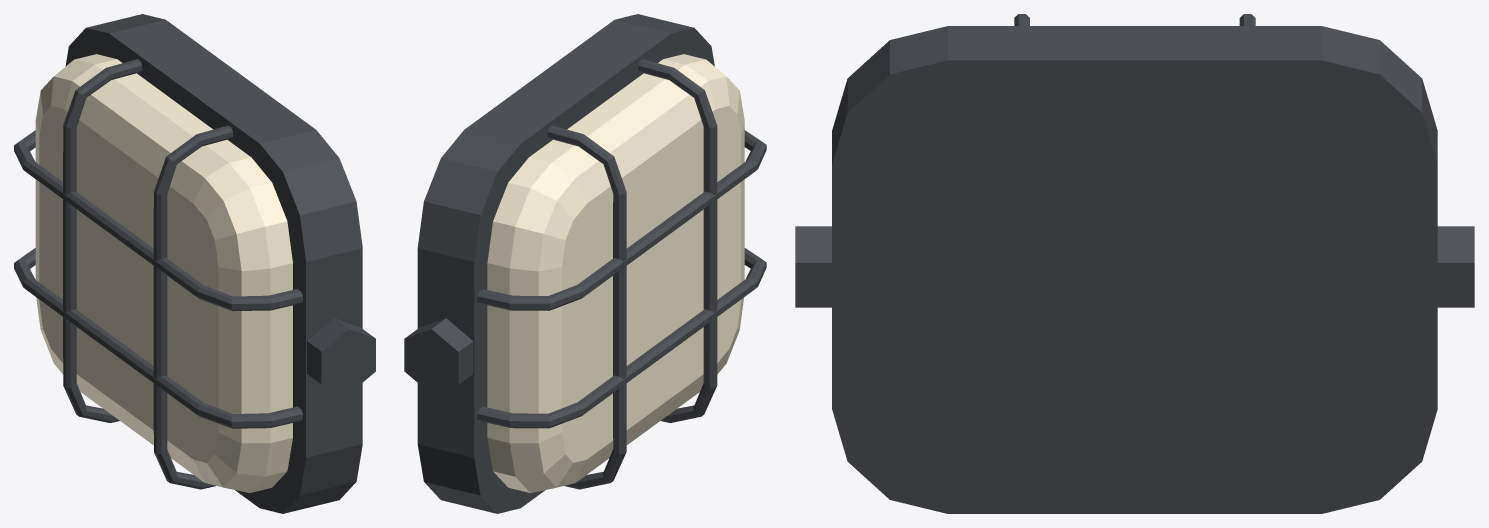
The model's file is Light_NoWires.fbx.
The picture shows the model from 3 angles, left to right: view 1: azimuth 30°, elevation 25°; view 2: azimuth 150°, elevation 25°; view 3: azimuth 270°, elevation 25°; orthographic projection. The views are drawn at different scales.
Visible parts, largest first — view 1: Light_NoWires; view 2: Light_NoWires; view 3: Light_NoWires.
Part boxes in pixels (left/top/right/bottom): Light_NoWires: left=14, top=14, right=375, bottom=513; Light_NoWires: left=404, top=14, right=766, bottom=513; Light_NoWires: left=795, top=14, right=1474, bottom=513.
Size of the model in its own units: 7.87 by 20.85 by 28.29.
